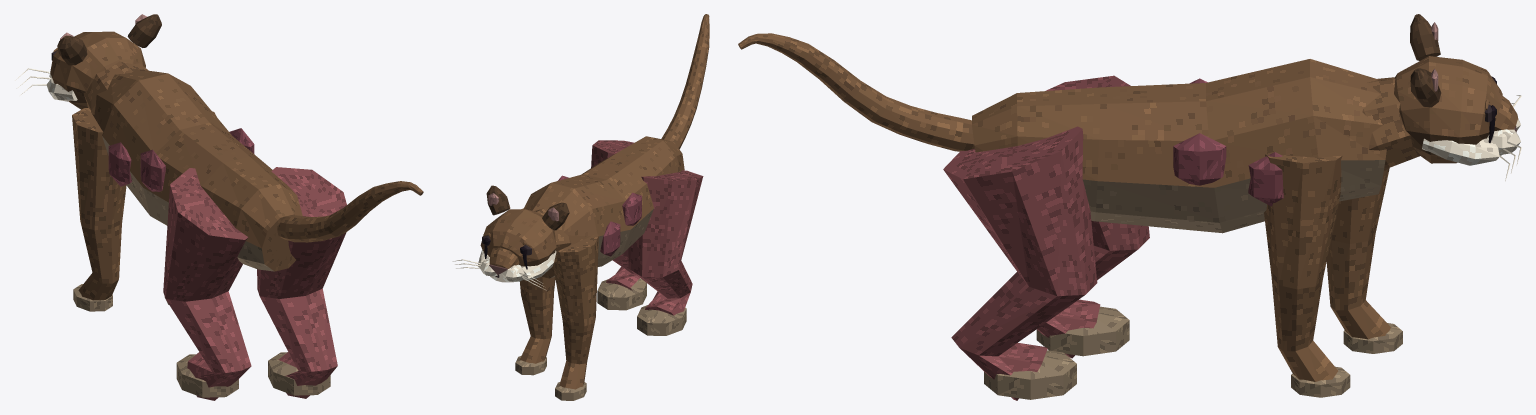
The model's file is mon_zougar.glb.
3 renders of one model, left to right at view 1: azimuth 30°, elevation 25°; view 2: azimuth 150°, elevation 25°; view 3: azimuth 270°, elevation 25°, orthographic. The views are drawn at different scales.
Parts seen in each view (by area): view 1: closed_body; view 2: closed_body; view 3: closed_body.
Boxes of the visible parts, x1,y1,x2,y2 form: closed_body: (15,14,423,400); closed_body: (452,14,709,400); closed_body: (738,14,1521,400).
Size of the model in its own units: 0.5102 by 0.9761 by 1.89.
1 material, 1 textured.
